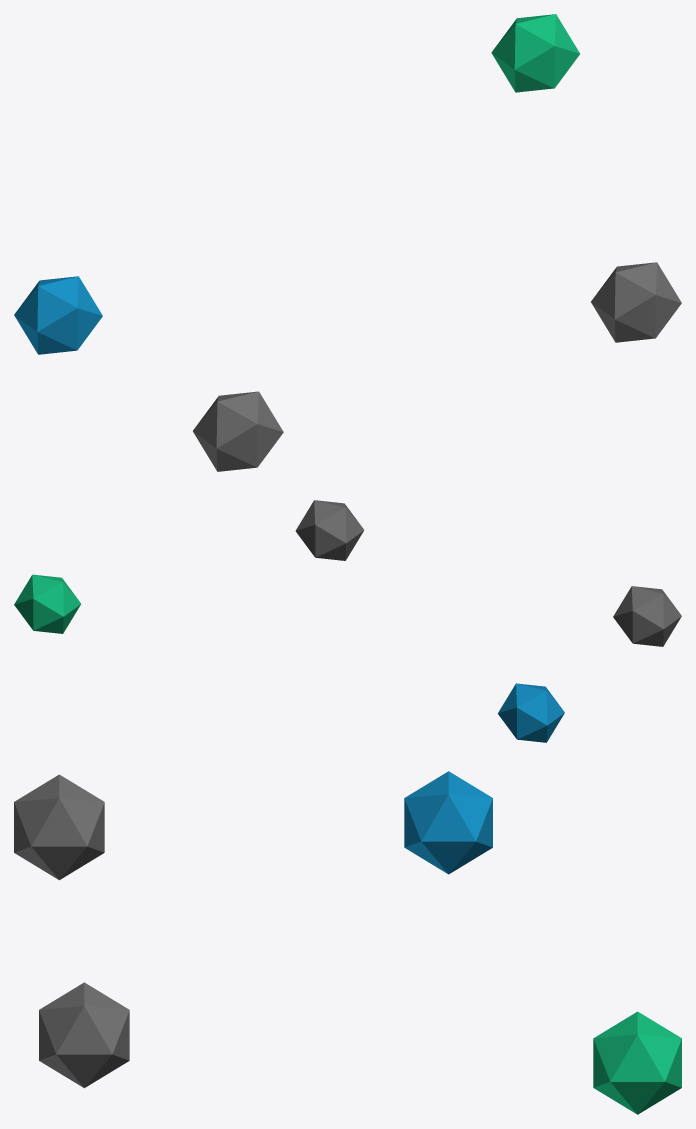
3 views of the same model, one above another, from view 1: azimuth 30°, elevation 25°; view 2: azimuth 150°, elevation 25°; view 3: azimuth 270°, elevation 25° (orthographic). The views are drawn at different scales.
Visible parts, largest first — view 1: 02_07_00; view 2: 02_07_00; view 3: 02_07_00.
Part boxes in pixels (left/top/right/bottom): 02_07_00: left=14, top=14, right=681, bottom=471; 02_07_00: left=14, top=500, right=681, bottom=742; 02_07_00: left=14, top=771, right=681, bottom=1114.
Size of the model in its own units: 0.5157 by 0.107 by 0.4092.
